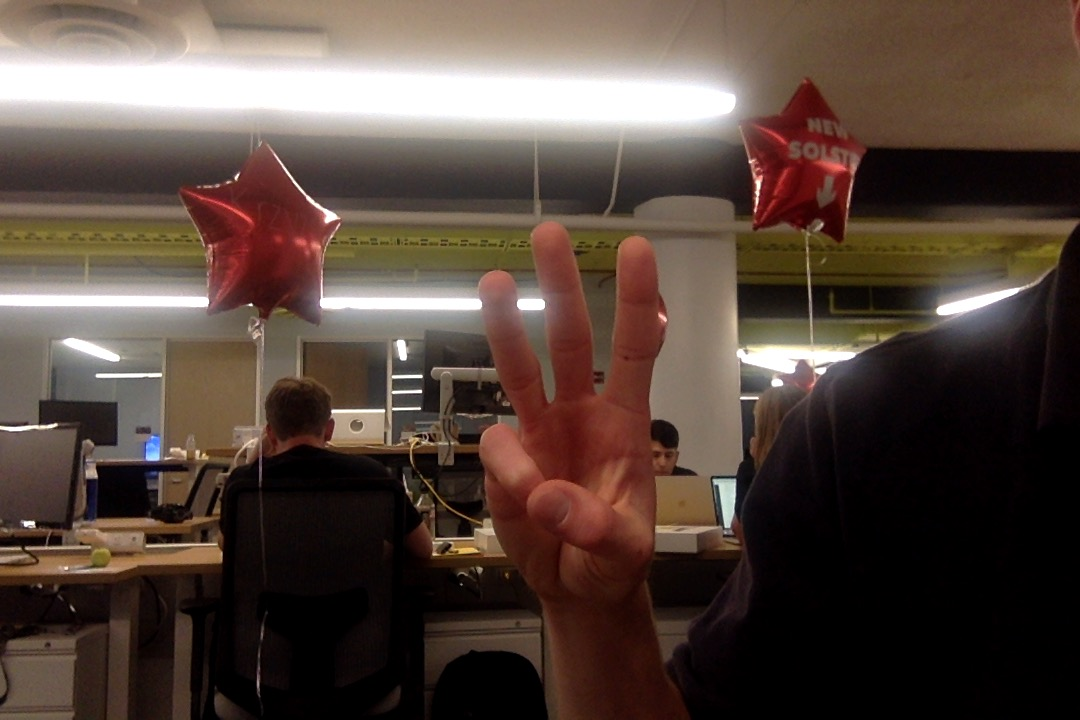w: (469, 216, 671, 603)
